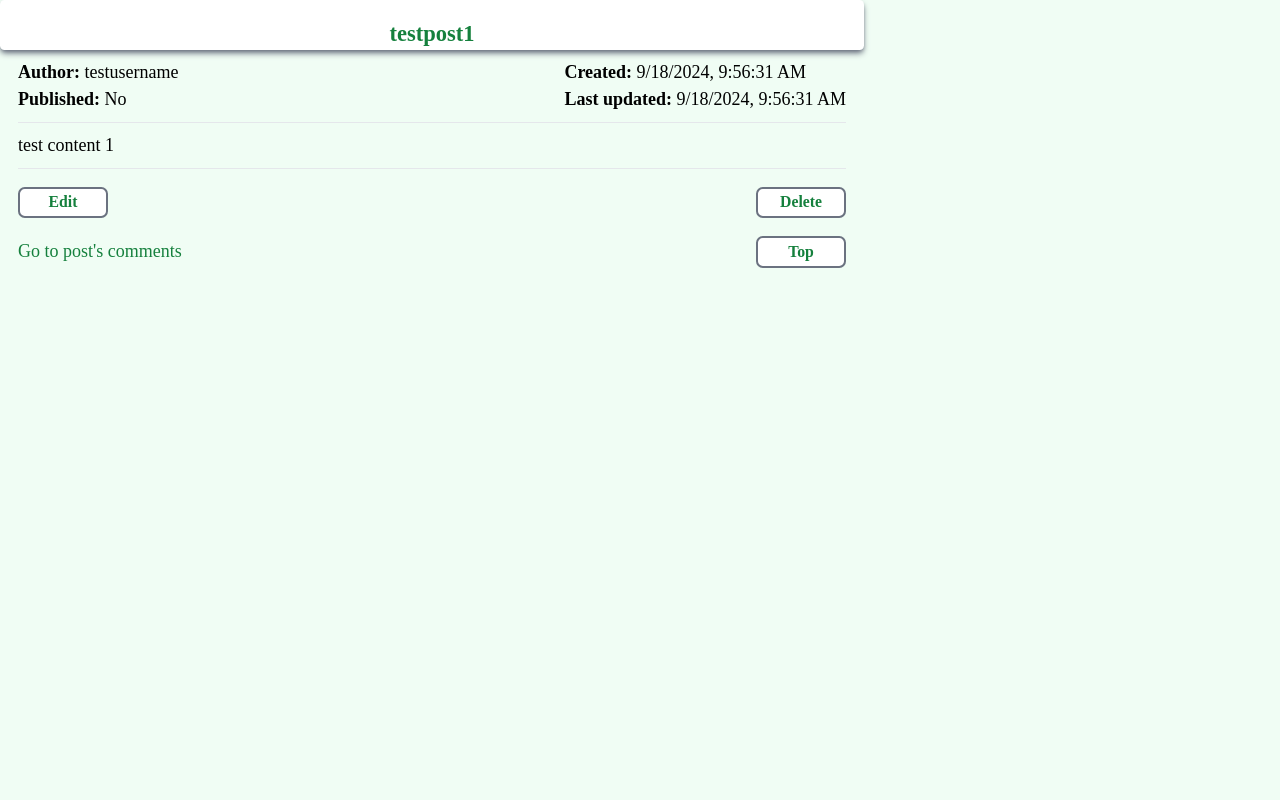
Test: postDeleteModal tests › cancel button closes the prompt
Click the button "Delete".
click(801, 202)  # box [756,186,846,218]
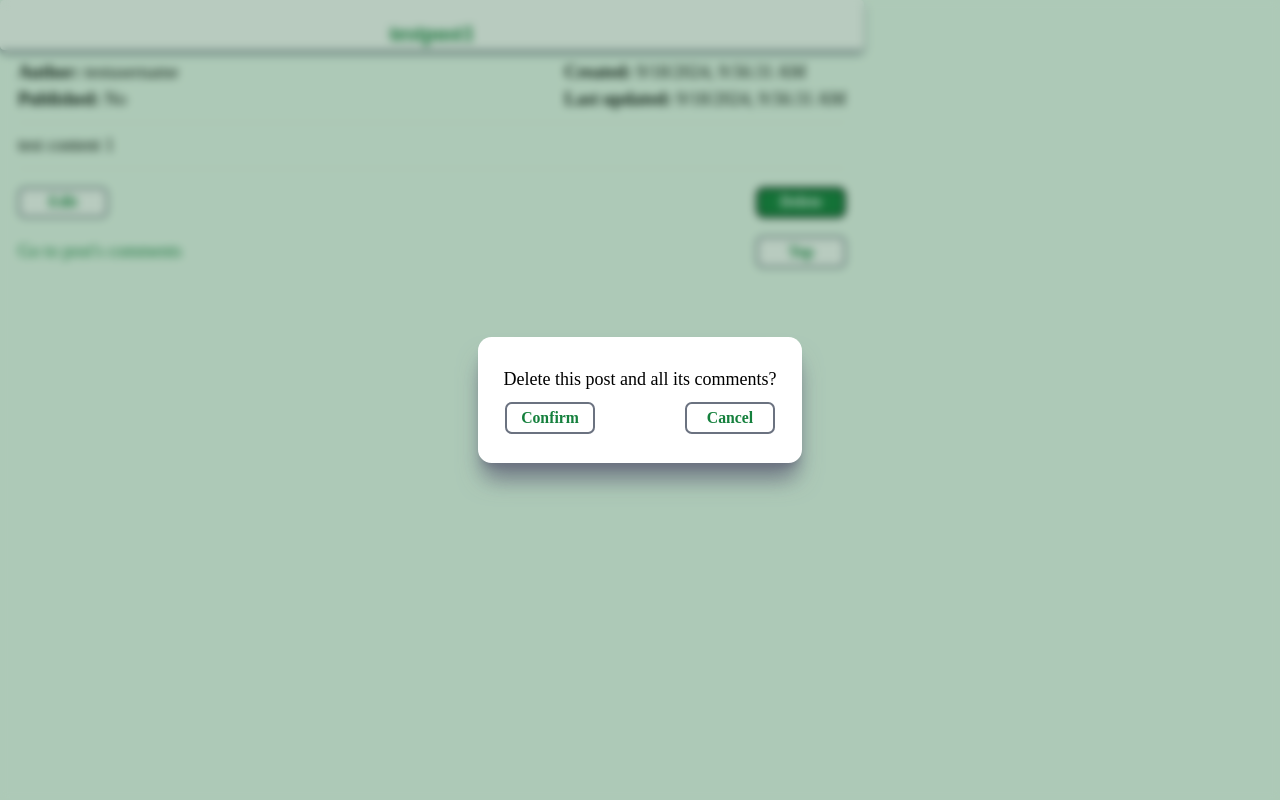
Click the button "Cancel".
click(730, 418)  # box [685,402,775,434]
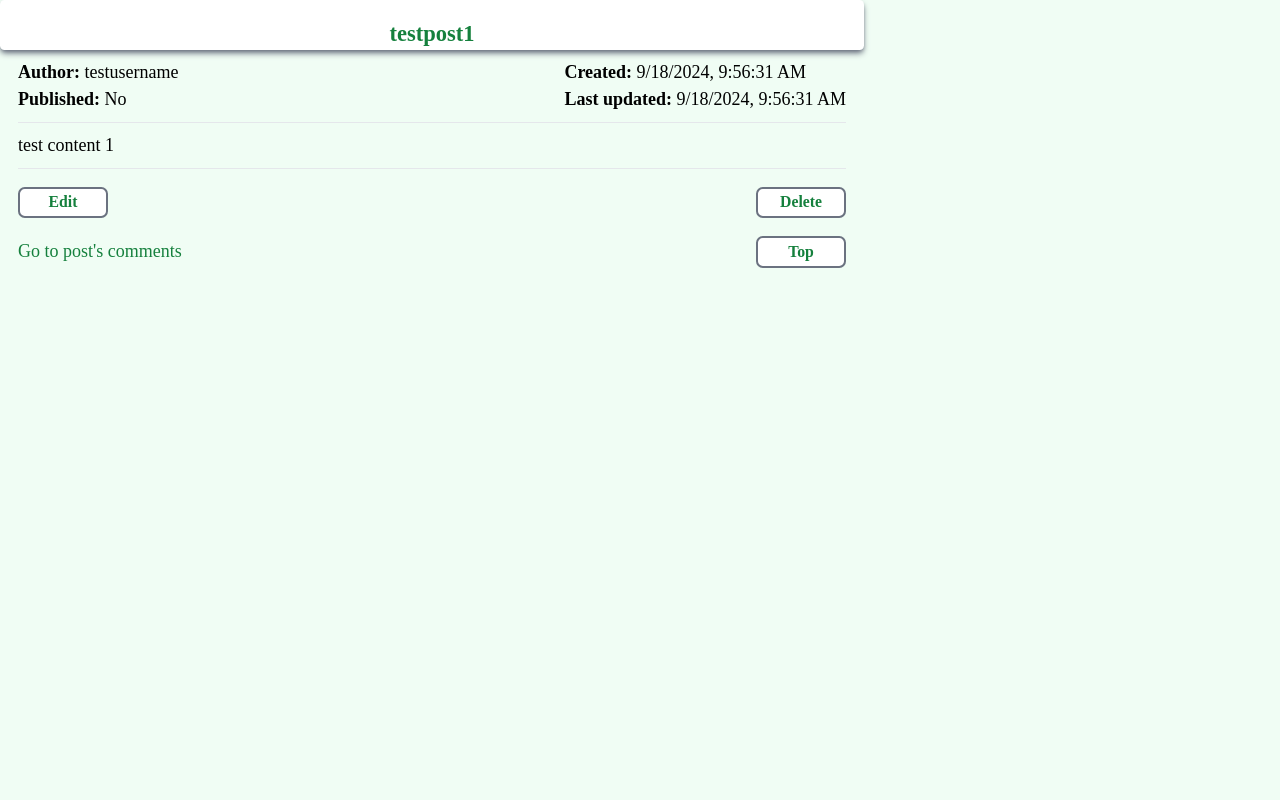
Expected: the heading "testpost1" is shown, [390,21,474,46]
Now the button "Confirm" is gone
Now the button "Cancel" is gone
